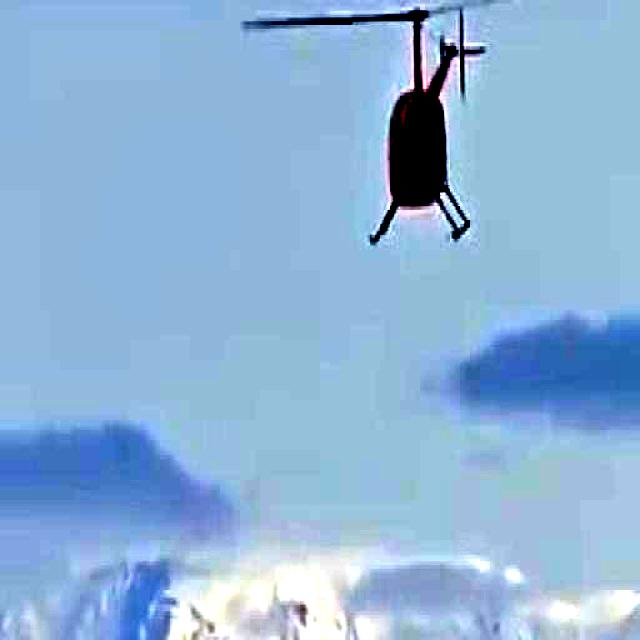drone: (234, 0, 586, 249)
